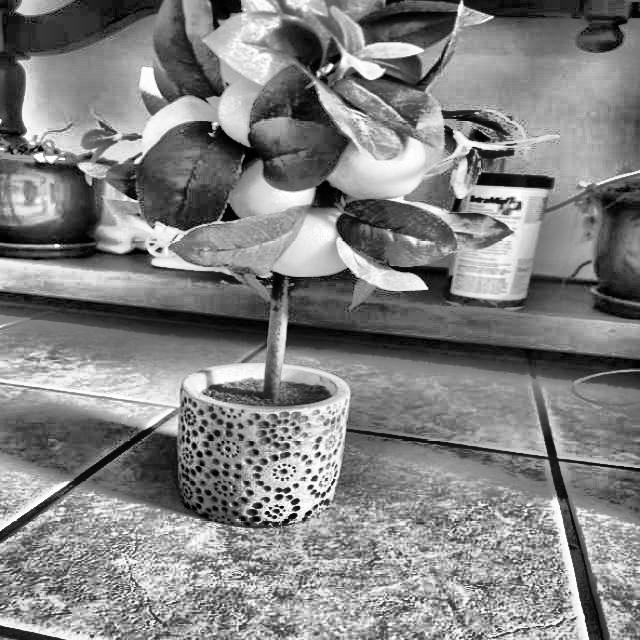plants: (92, 0, 566, 455)
